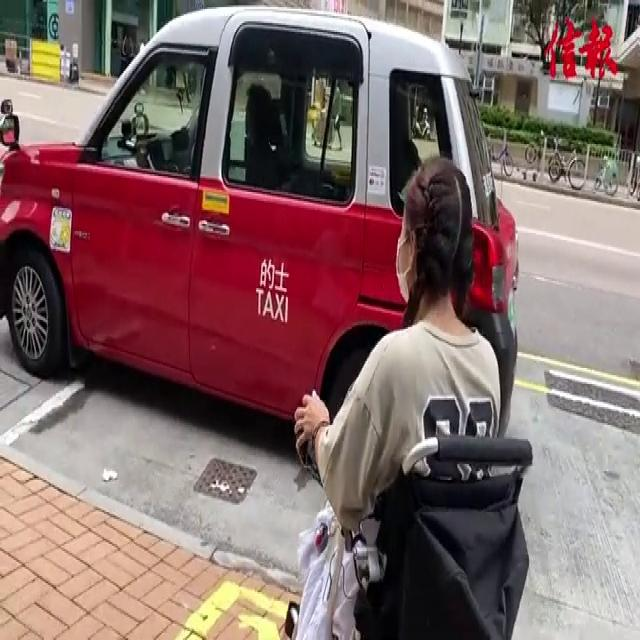wheelchairs: (283, 362, 536, 640)
